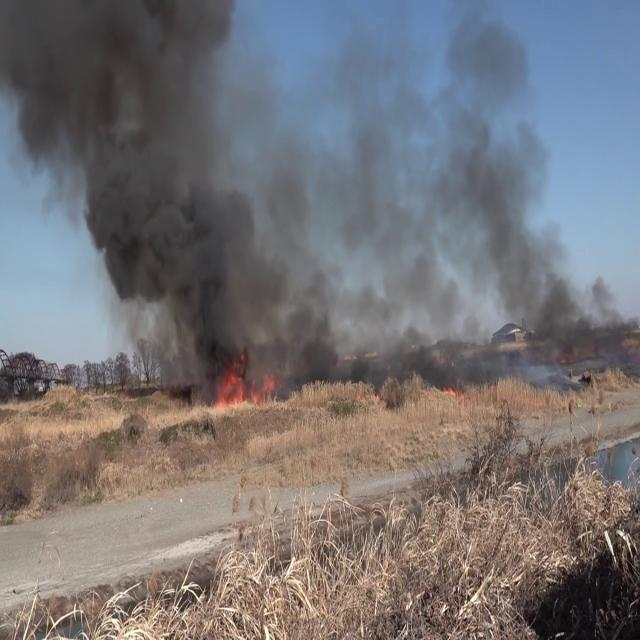Fire: (202, 348, 278, 416)
Smoke: (1, 0, 574, 388), (246, 4, 630, 370), (0, 0, 274, 379)
